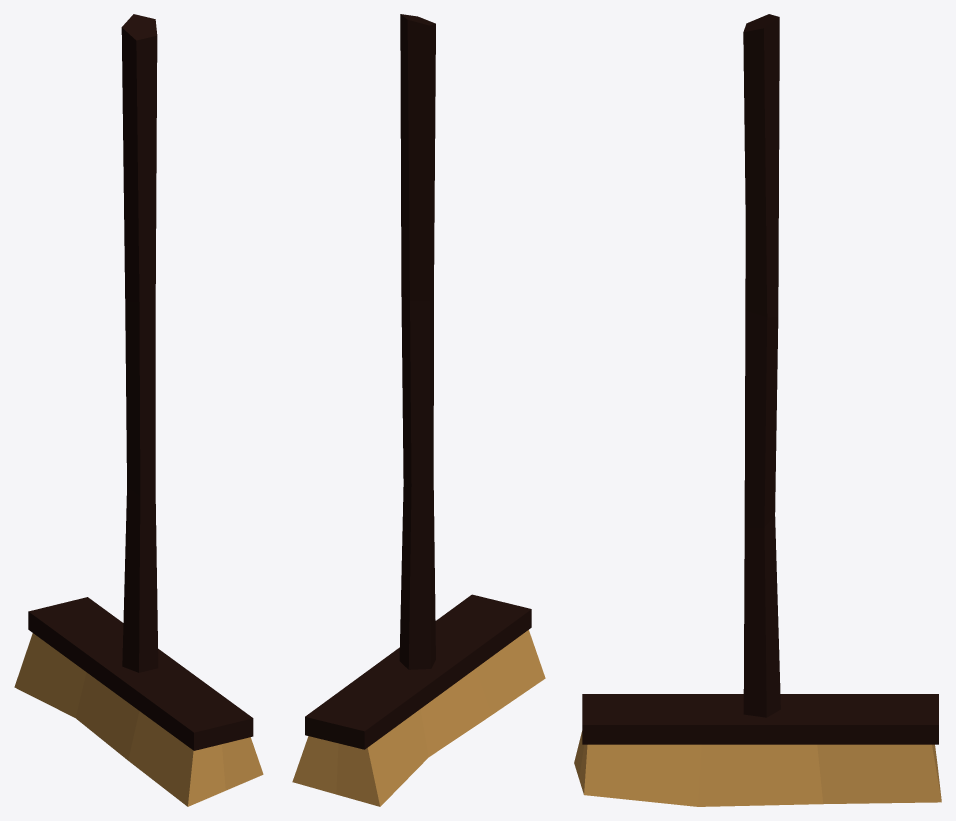
The model's file is broom.obj.
3 renders of one model, left to right at view 1: azimuth 30°, elevation 25°; view 2: azimuth 150°, elevation 25°; view 3: azimuth 270°, elevation 25°, orthographic. The views are drawn at different scales.
Parts seen in each view (by area): view 1: Cylinder; view 2: Cylinder; view 3: Cylinder.
Boxes of the visible parts, <box> form: Cylinder: <box>14,14,263,806</box>; Cylinder: <box>292,14,545,806</box>; Cylinder: <box>574,14,941,806</box>.
Size of the model in its own units: 1.11 by 8.36 by 3.61.
